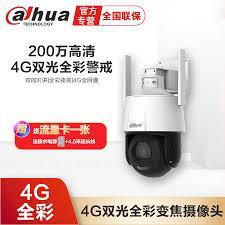maru: (118, 47, 191, 182)
